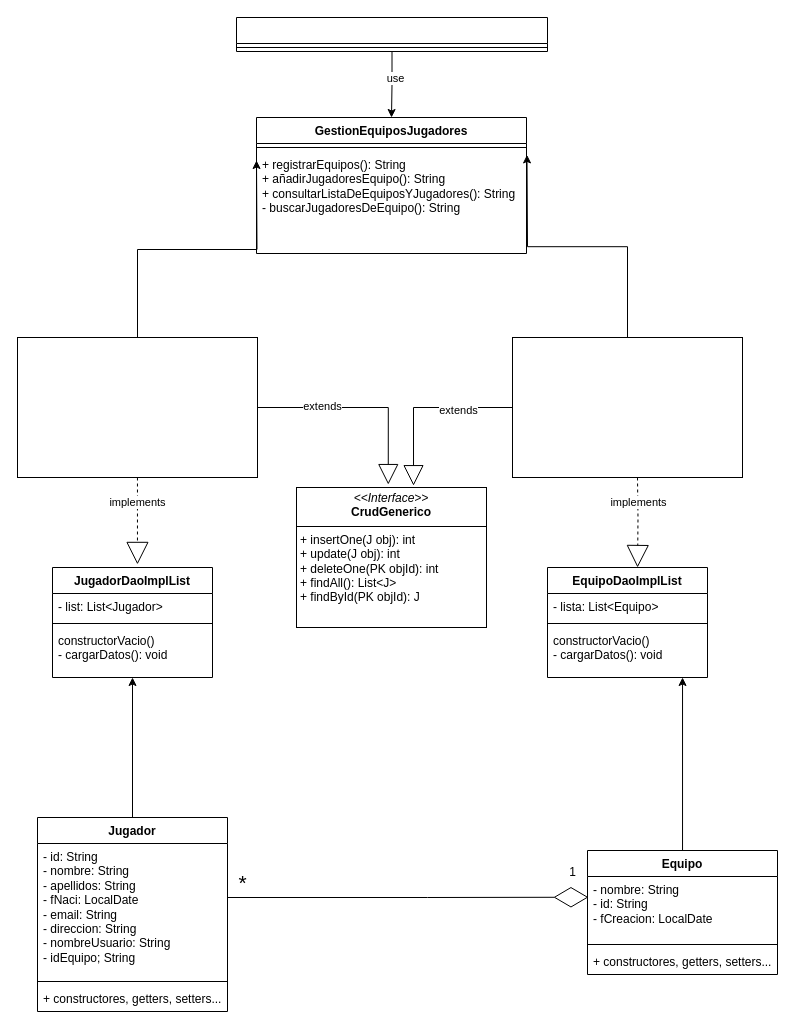
Image size: 795x1032. Some labels were removed from this diagram. Each missing label, with the centre of its shape:
<<Interface>> EquipoDao: the point at 627,407
<<Interface>> JugadorDao + findByNombreUsuario(String ns): Jugador: the point at 137,407
GestionEquiposYJugadoresCLI: the point at 392,34
